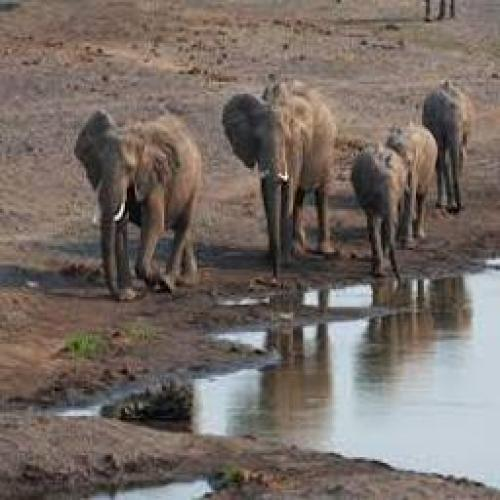african_elephant-endangered: (74, 110, 205, 294), (223, 79, 338, 265), (349, 144, 408, 274), (422, 82, 472, 211), (390, 123, 436, 238), (420, 0, 457, 20)
